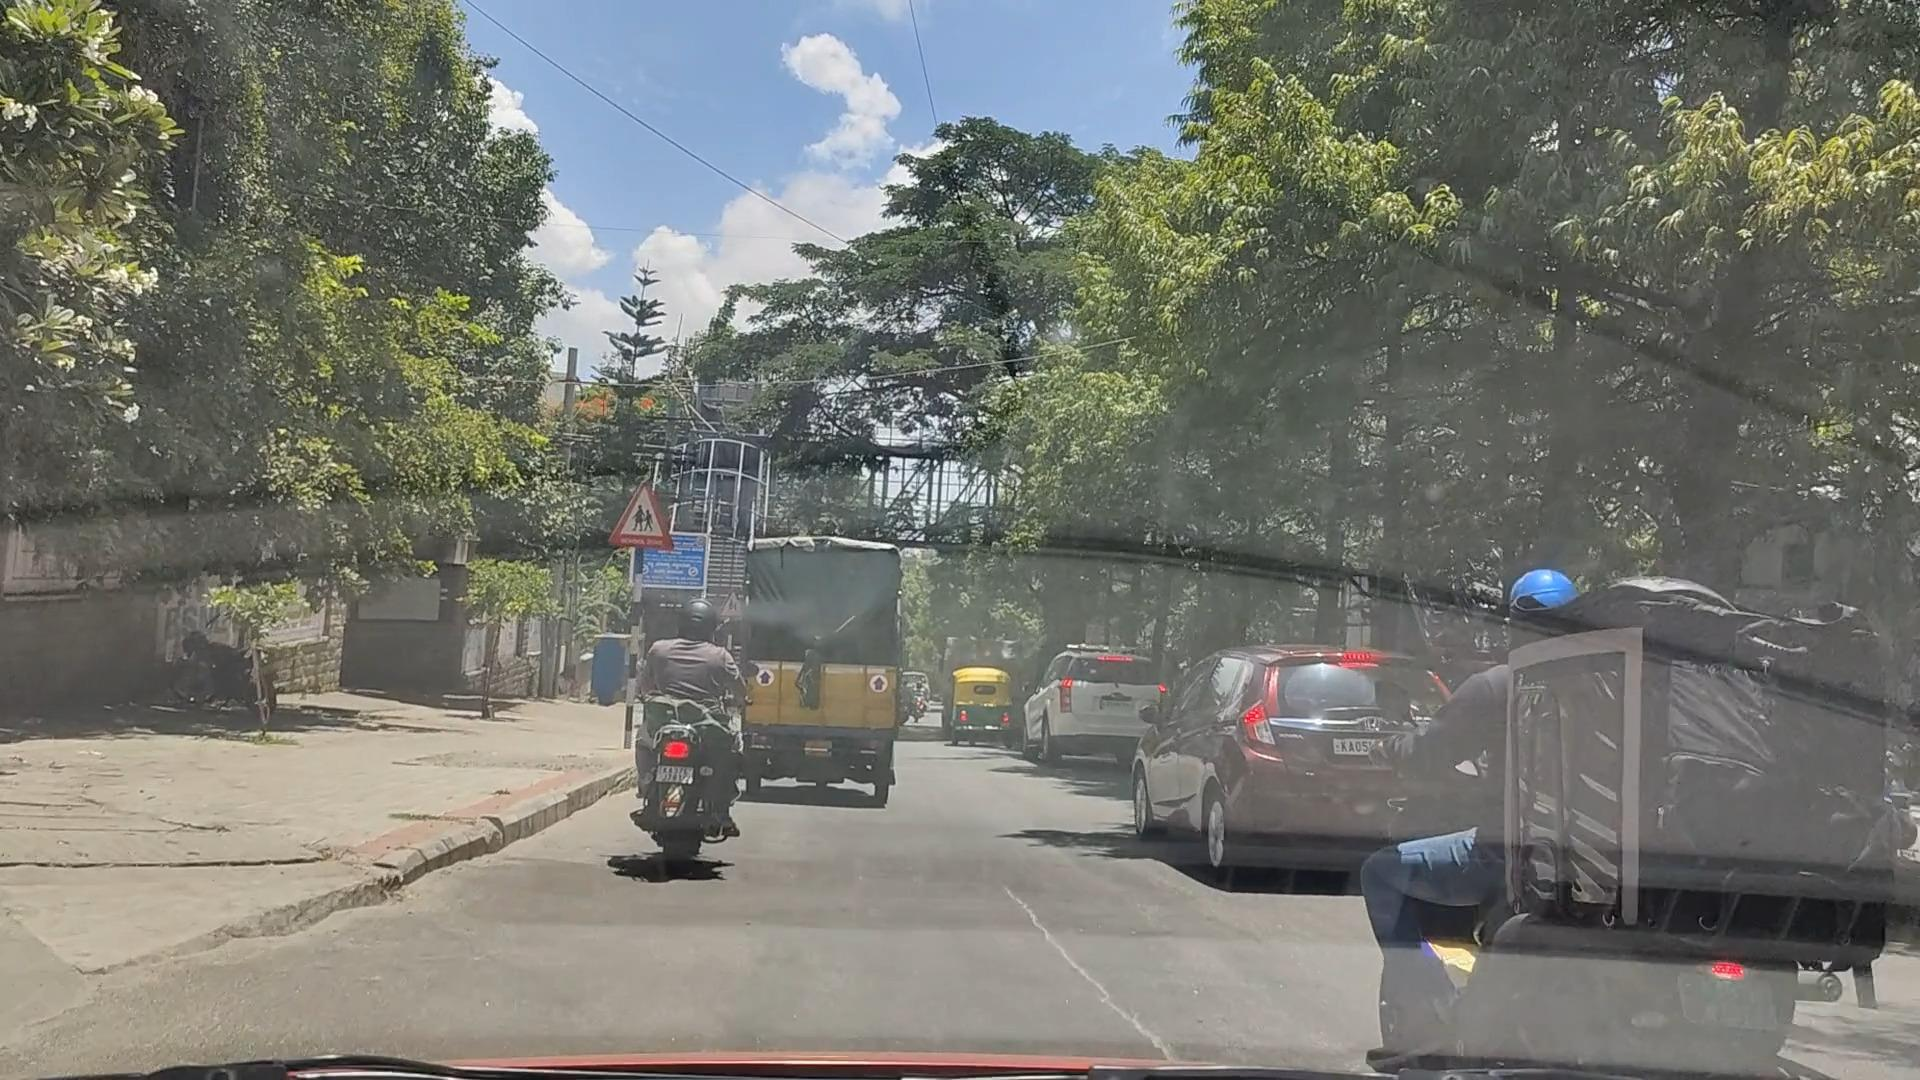HMV: (727, 531, 915, 793)
LMV: (1312, 534, 1920, 1080)
RoadDamages: (934, 886, 1179, 1060)
